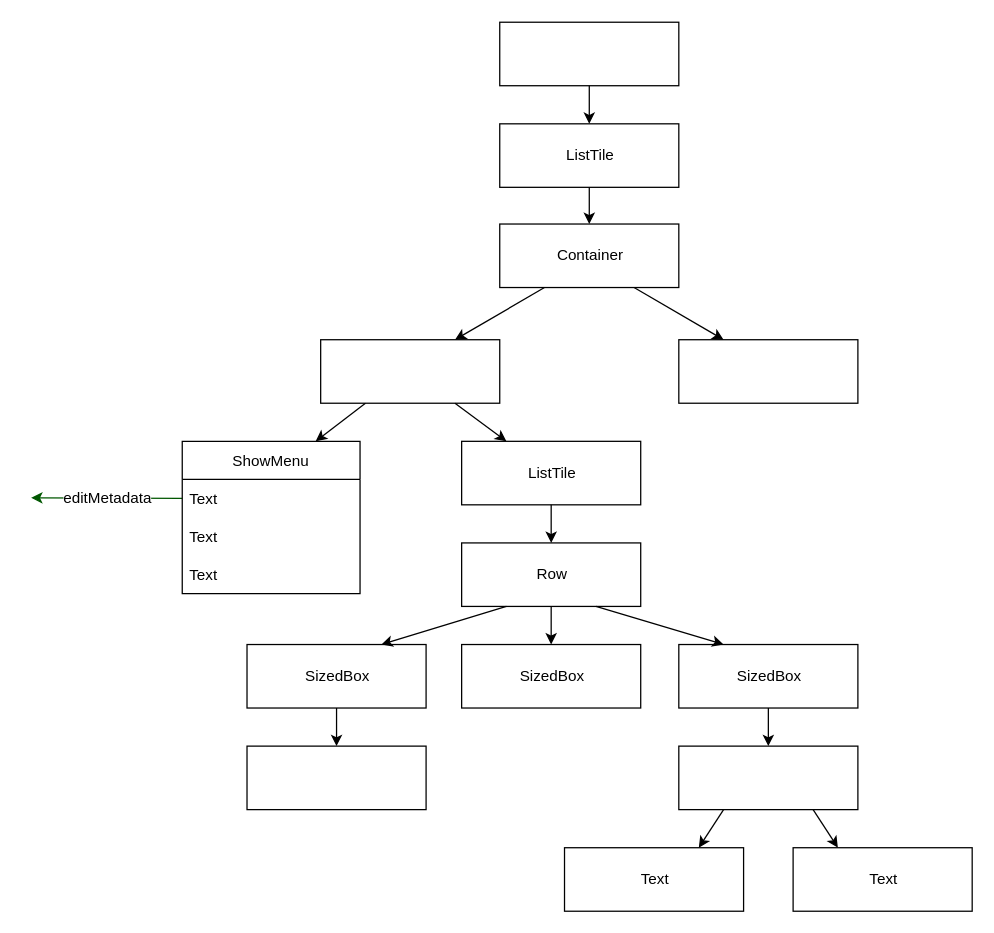
Image size: 994x933. Some labels were removed from this diagram. The centre of each missing label's shape, as x and y in pixels:
"BoxDecoration" belongs at (768,370).
"Column" belongs at (768,777).
"GestureDetector" belongs at (409,370).
"GridView" belongs at (588,53).
"Image" belongs at (336,777).
